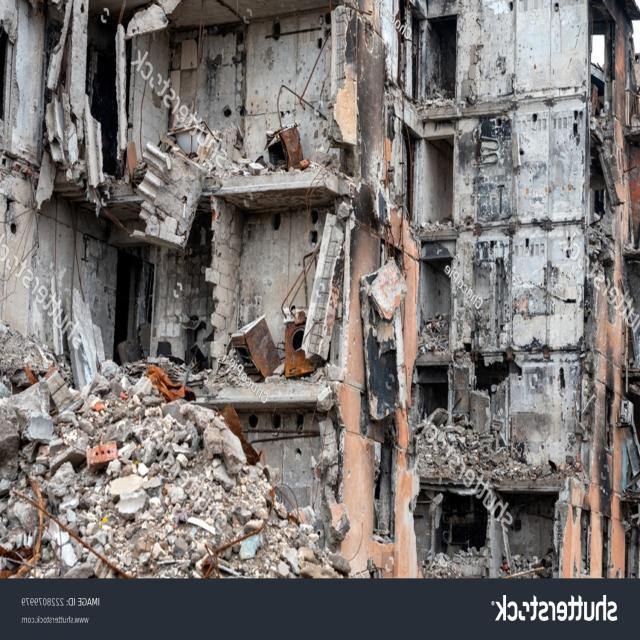Destroyed_building: (0, 0, 638, 580)
